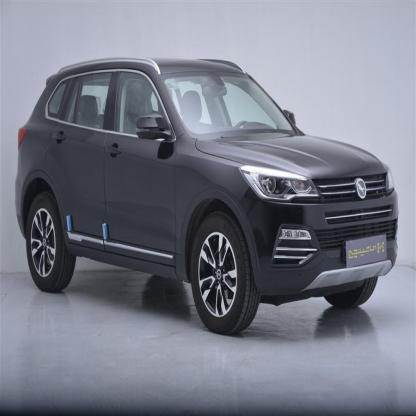Car: (9, 44, 400, 342)
